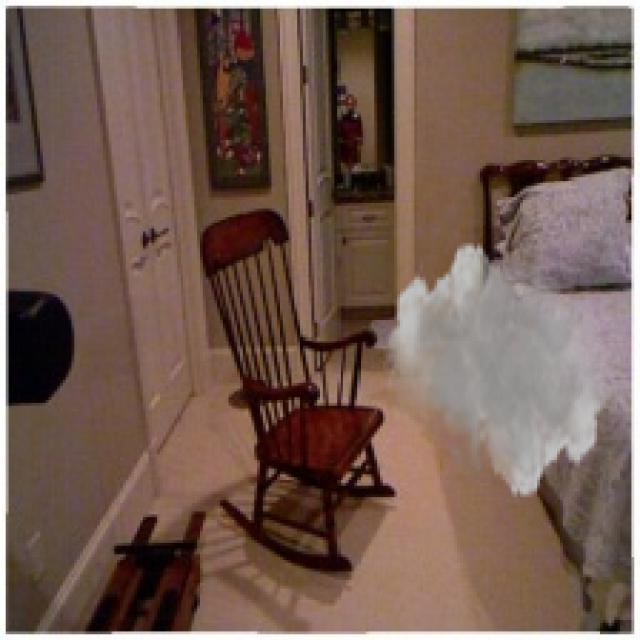smoke: (383, 240, 611, 500)
